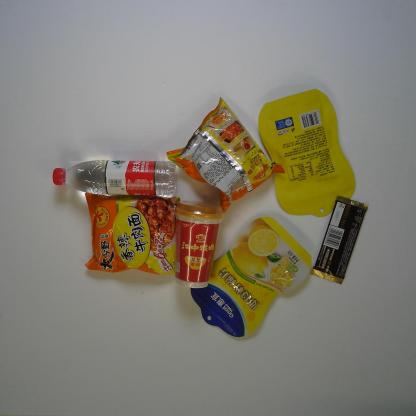Chocolate: (307, 195, 370, 288)
Dried Fruit: (186, 214, 314, 340), (256, 88, 356, 221)
Drink: (52, 158, 179, 200)
Instant Drink: (172, 200, 226, 290)
Instant Noodles: (165, 95, 286, 218), (80, 189, 180, 276)
